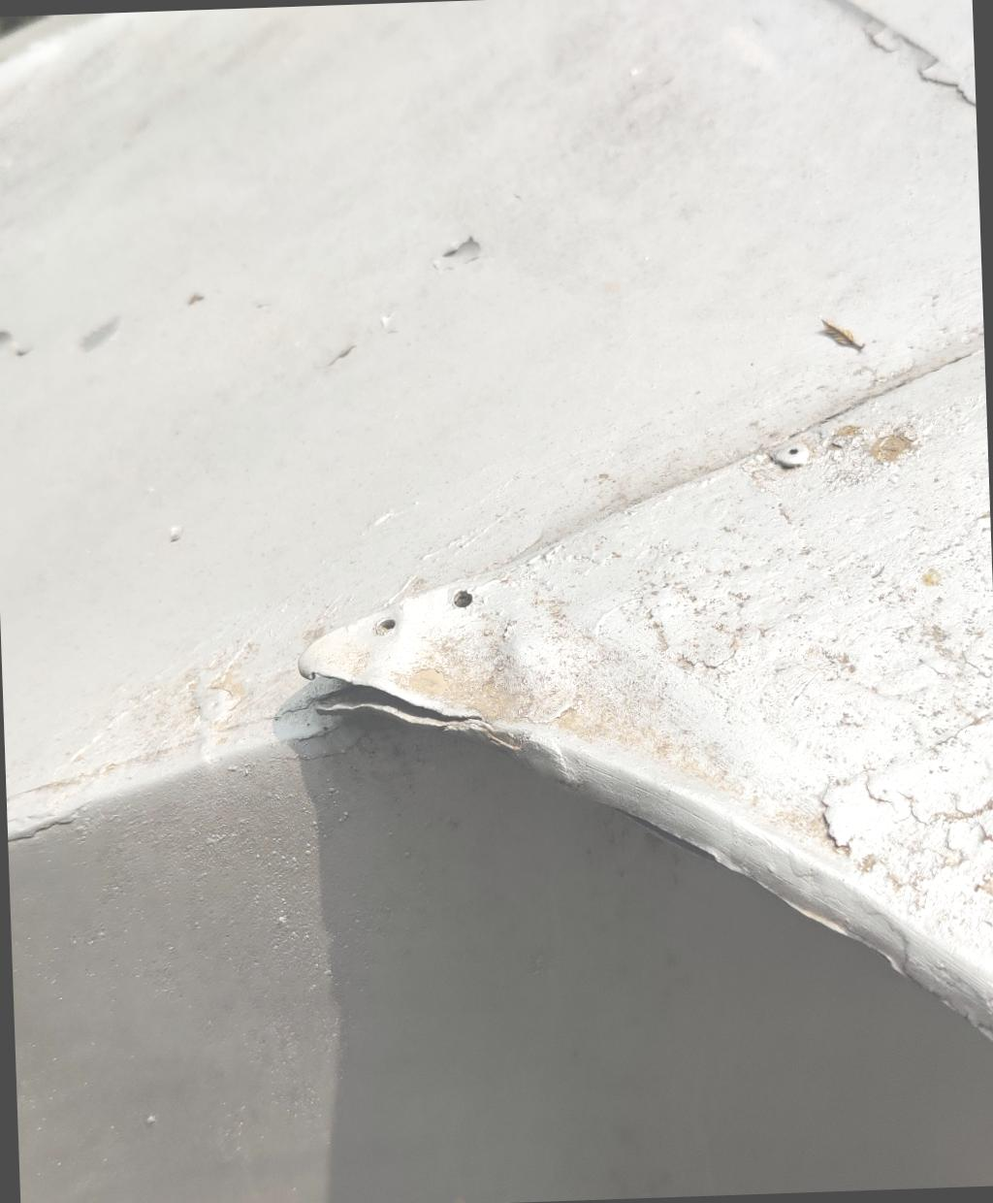crack: (276, 631, 524, 793)
